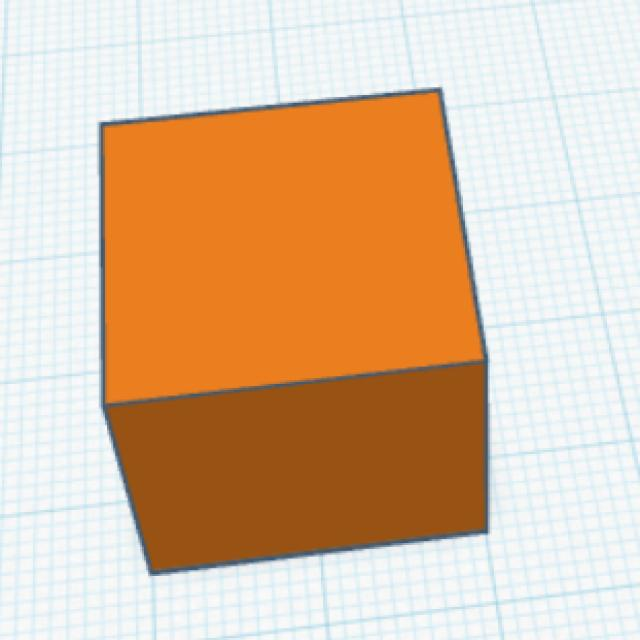cube: (95, 84, 495, 581)
